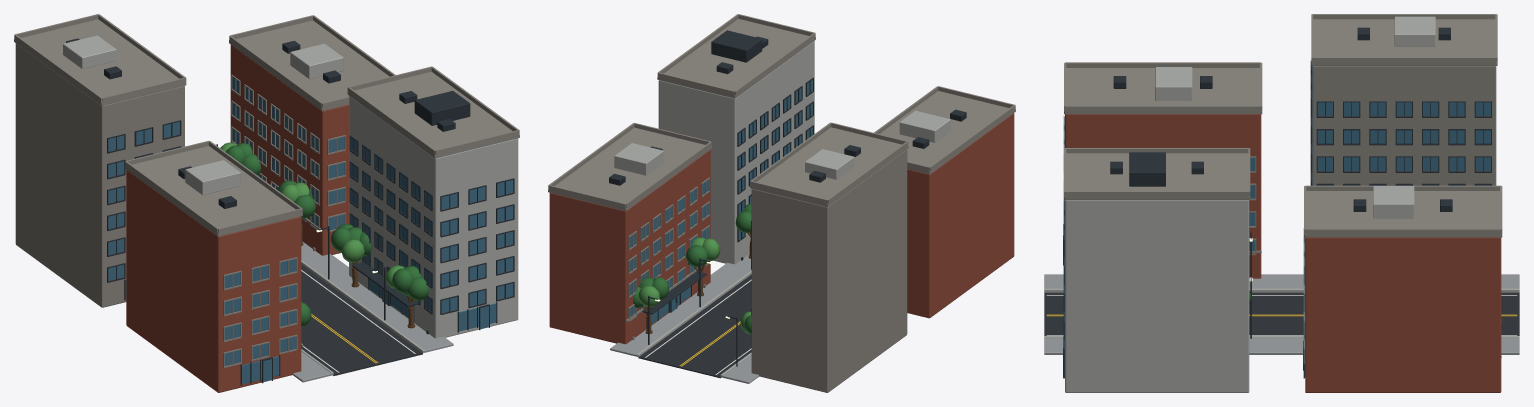
Rendered from rorng_city_gateway_block_40m.glb.
3 renders of one model, left to right at view 1: azimuth 30°, elevation 25°; view 2: azimuth 150°, elevation 25°; view 3: azimuth 270°, elevation 25°, orthographic. The views are drawn at different scales.
Visible parts, largest first — view 1: rorng_city_gateway_block_40m_lod0; view 2: rorng_city_gateway_block_40m_lod0; view 3: rorng_city_gateway_block_40m_lod0.
Part boxes in pixels (<box>): rorng_city_gateway_block_40m_lod0: <box>14,14,519,392</box>; rorng_city_gateway_block_40m_lod0: <box>548,14,1015,392</box>; rorng_city_gateway_block_40m_lod0: <box>1044,14,1519,392</box>.
Size of what is drawn, in the model's own units: 31.18 by 22.21 by 40.
